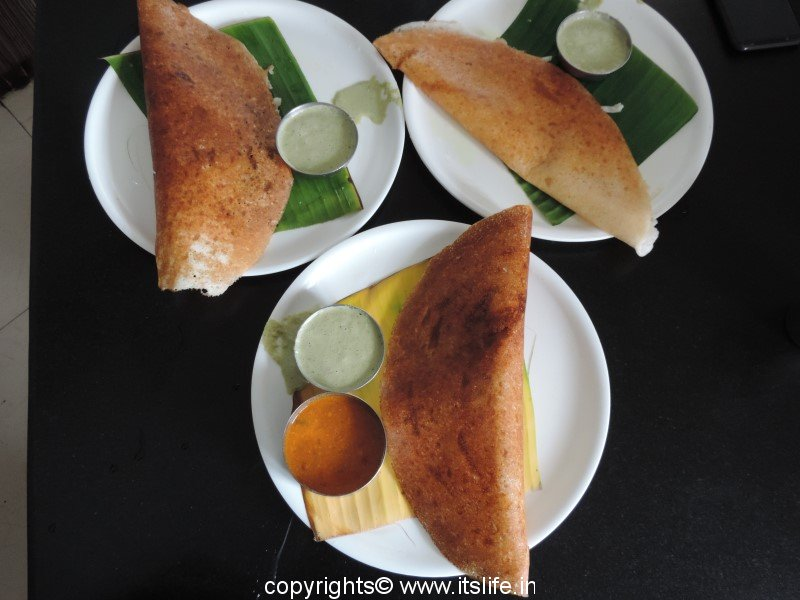dosa: (121, 3, 665, 600)
